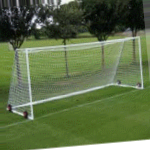goals: (6, 35, 147, 120)
